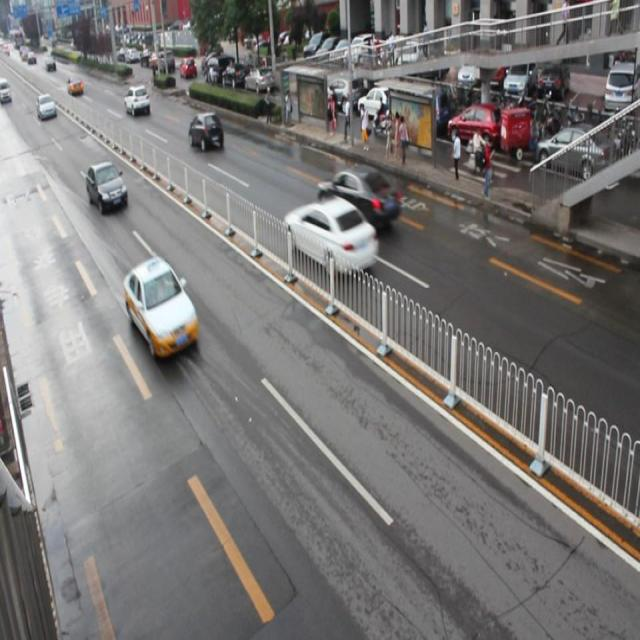car: (123, 254, 199, 356), (284, 198, 378, 276), (318, 165, 402, 230), (86, 160, 128, 213), (188, 111, 225, 151), (125, 82, 152, 118)
